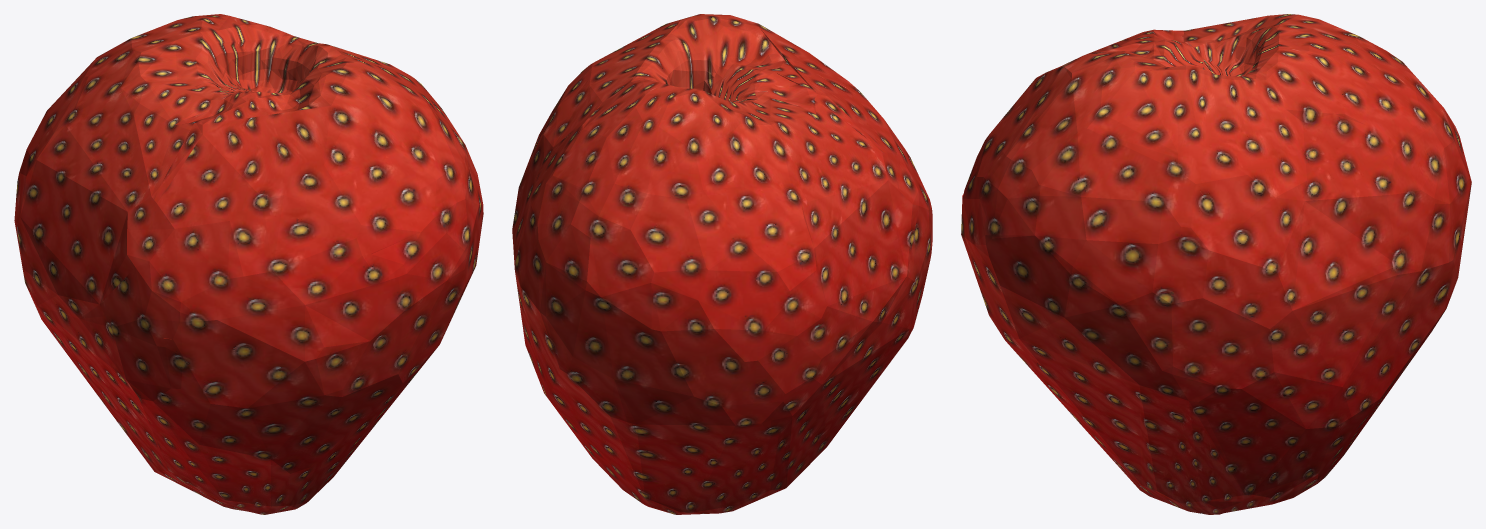
3 views of the same model, side by side, from view 1: azimuth 30°, elevation 25°; view 2: azimuth 150°, elevation 25°; view 3: azimuth 270°, elevation 25° (orthographic). The views are drawn at different scales.
Visible parts, largest first — view 1: _001_Meshed; view 2: _001_Meshed; view 3: _001_Meshed.
Boxes of the visible parts, x1,y1,x2,y2 form: _001_Meshed: (14, 14, 483, 514); _001_Meshed: (512, 14, 932, 514); _001_Meshed: (961, 14, 1471, 514).
Size of the model in its own units: 0.0955 by 0.1113 by 0.1115.
1 material, 1 textured.
